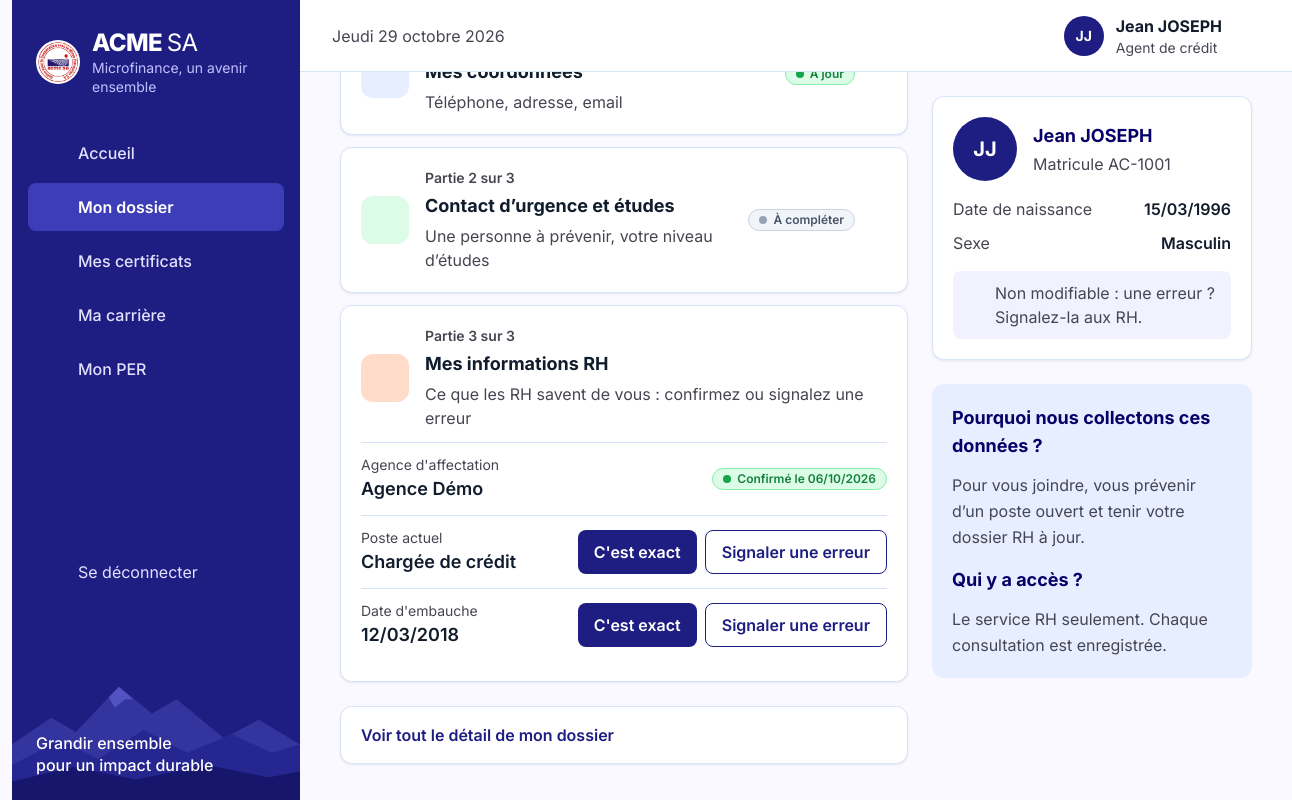
Test: US-129 CA-04 — la partie 3 dans la page › « Signaler une erreur » ouvre le formulaire et envoie la bonne information
The image size is (1292, 800).
(page scrolled)
Click the button "Signaler une erreur" in the row of "Date d'embauche". click: (796, 624)
box: top-left (705, 602), bottom-right (887, 646)
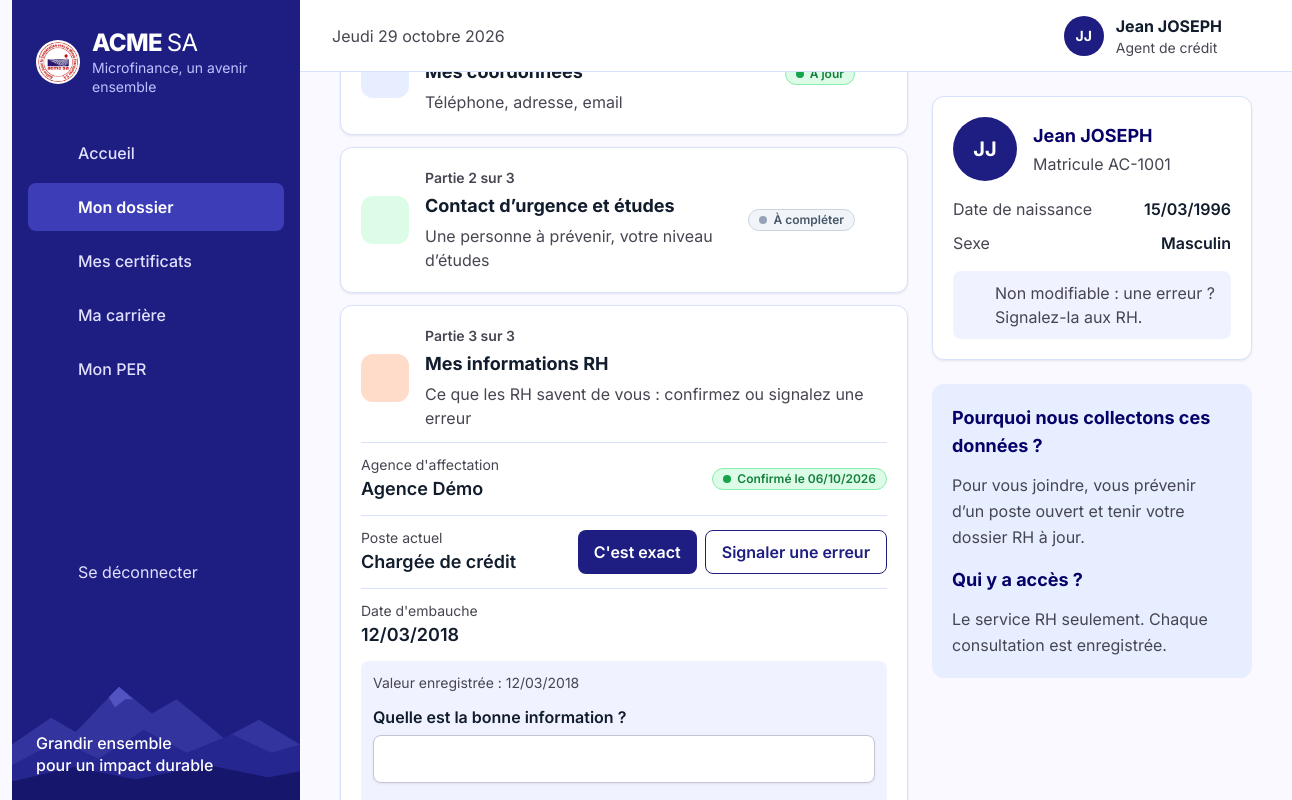
Type "12/03/2017" into the field labelled "Quelle est la bonne information ?". click: (624, 758)
box: top-left (373, 734), bottom-right (875, 782)
(page scrolled)
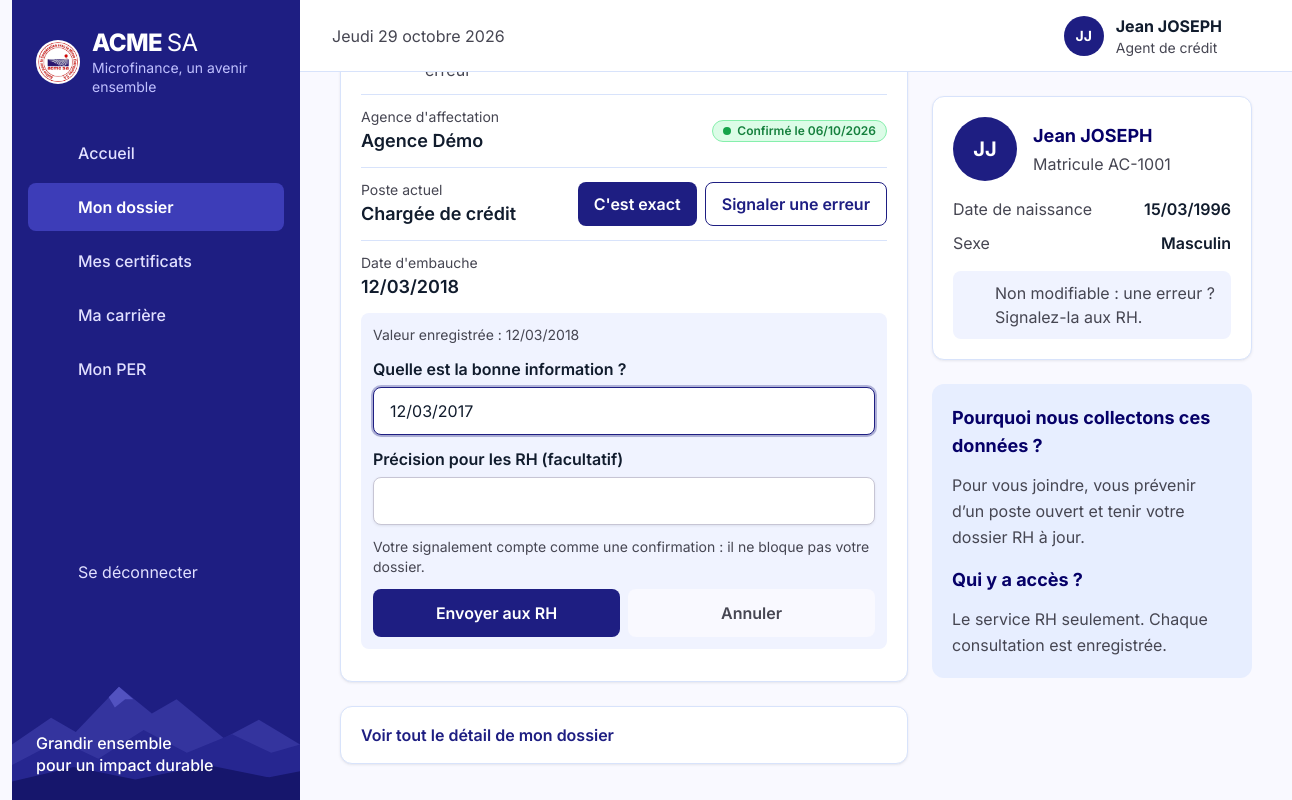
Click the button "Envoyer aux RH". click: (496, 612)
box: top-left (373, 588), bottom-right (620, 636)
(page scrolled)
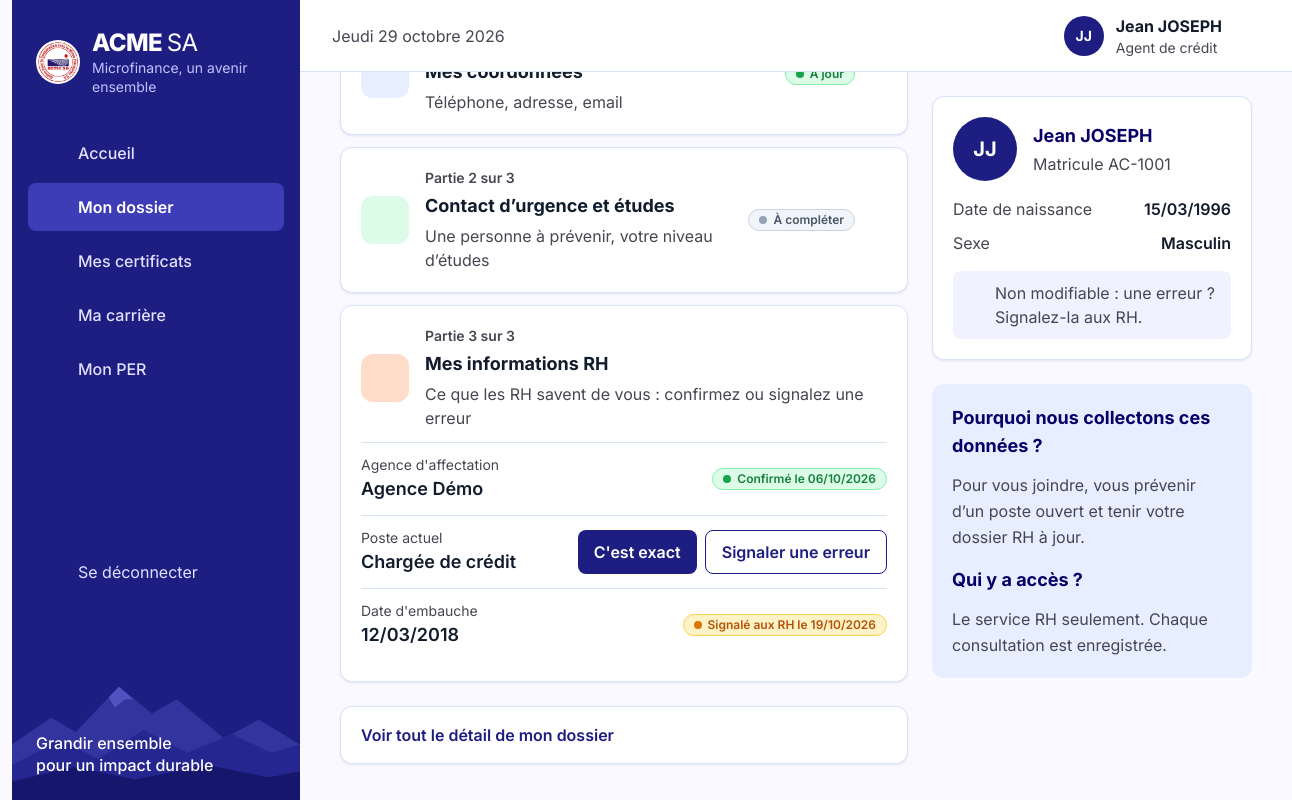
Check: the text "Signalé aux RH le 19/10/2026" is shown, box top-left (682, 614), bottom-right (887, 636)
